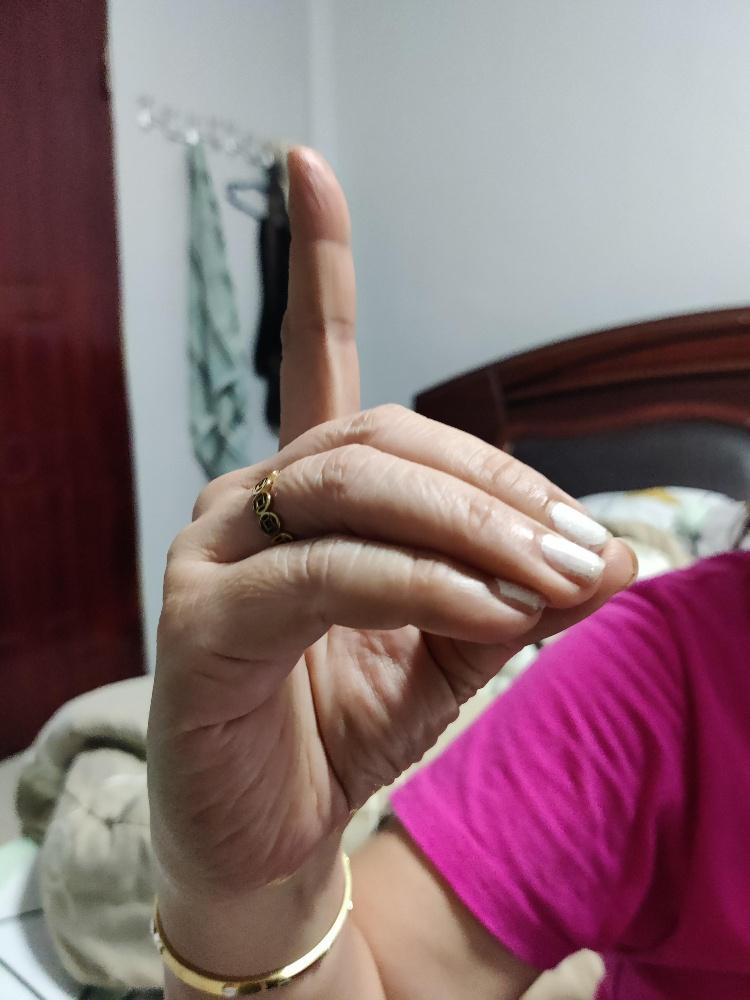d: (143, 143, 640, 899)
